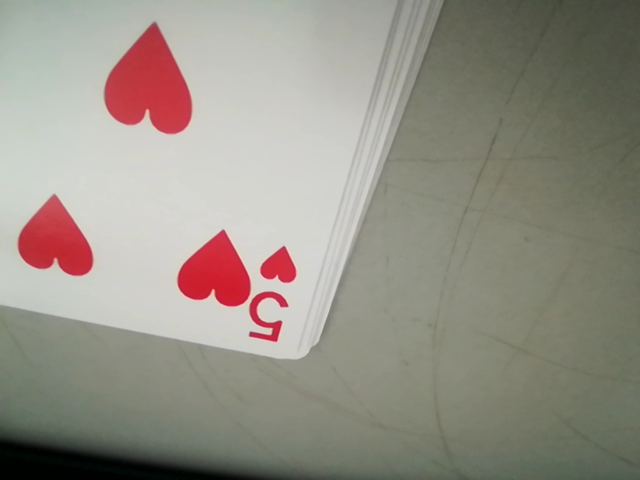hx 5: (240, 245, 303, 350)
